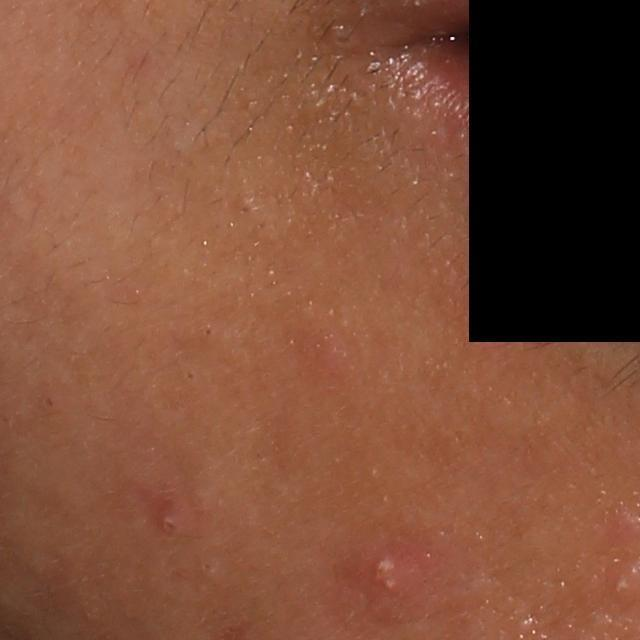comedo: (199, 324, 217, 339), (181, 369, 198, 384)
papule: (142, 493, 187, 539)
